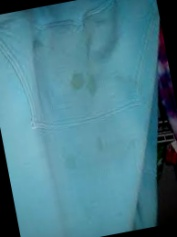mustard: (83, 75, 100, 98), (69, 74, 84, 89), (65, 155, 78, 172), (95, 136, 105, 151)
